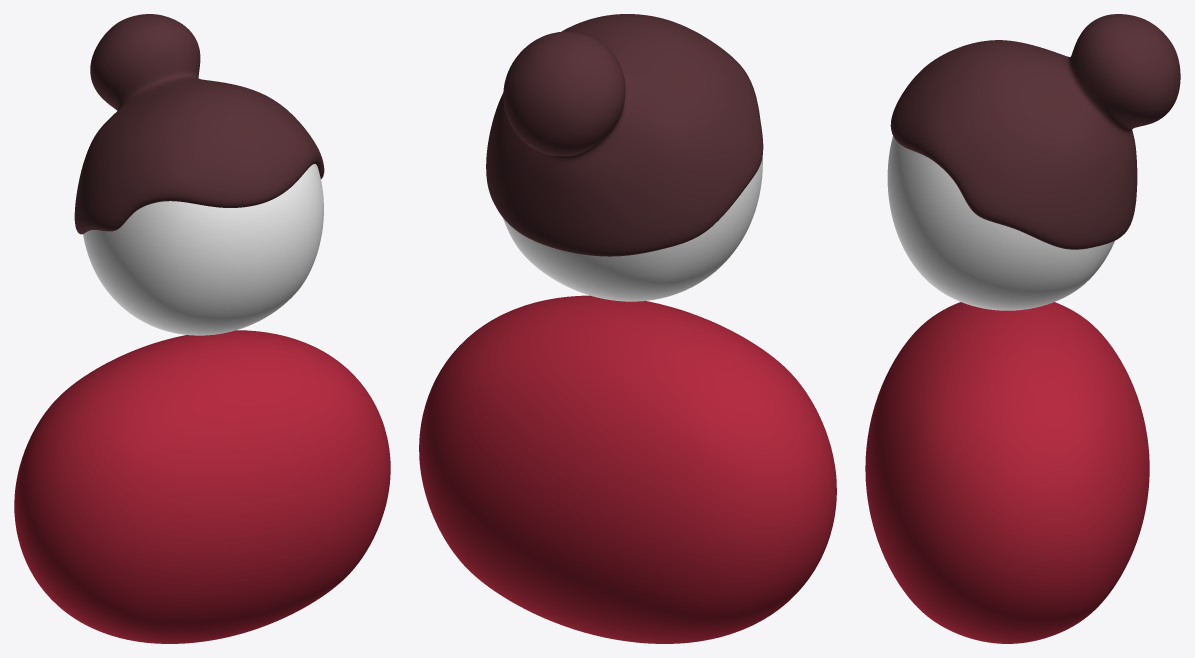
File: girl.fbx
3 views of the same model, side by side, from view 1: azimuth 30°, elevation 25°; view 2: azimuth 150°, elevation 25°; view 3: azimuth 270°, elevation 25° (orthographic). The views are drawn at different scales.
Visible parts, largest first — view 1: Girl; view 2: Girl; view 3: Girl.
Part boxes in pixels (bbox=[...]): Girl: bbox=[14, 14, 390, 643]; Girl: bbox=[419, 14, 836, 643]; Girl: bbox=[865, 14, 1180, 643].
Size of the model in its own units: 123 by 193 by 92.22.
